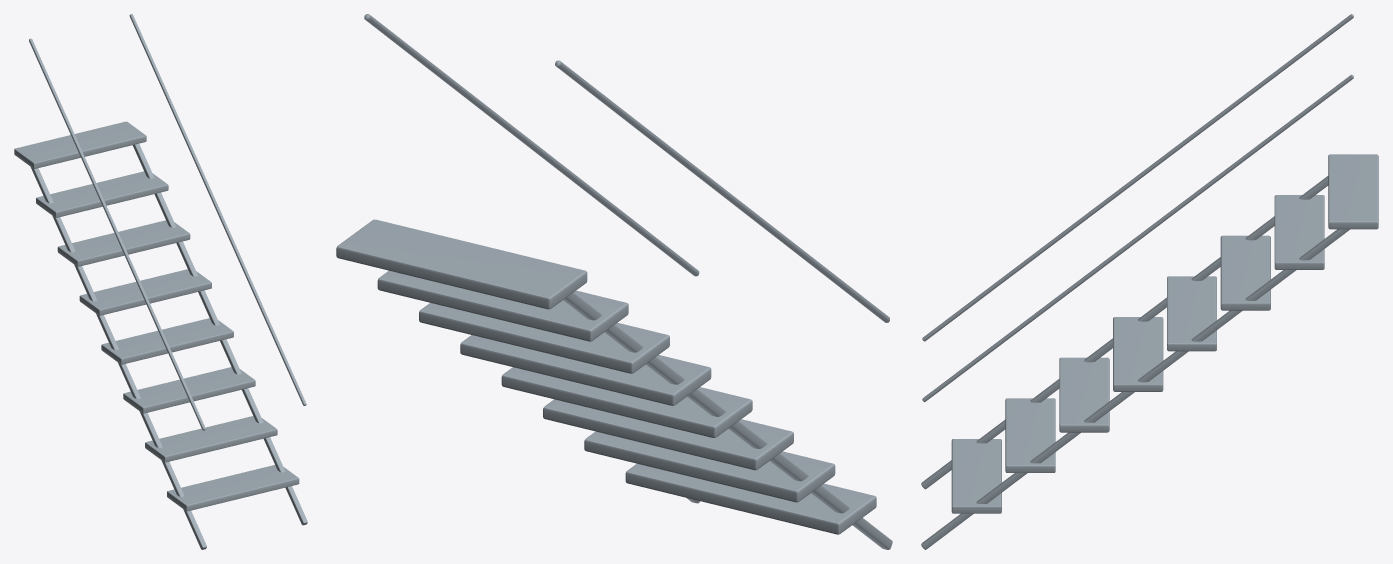
Rendered from stairs_ladder.glb.
3 renders of one model, left to right at view 1: azimuth 30°, elevation 25°; view 2: azimuth 150°, elevation 25°; view 3: azimuth 270°, elevation 25°, orthographic. The views are drawn at different scales.
Parts seen in each view (by area): view 1: stairs_ladder; view 2: stairs_ladder; view 3: stairs_ladder.
Boxes of the visible parts, x1,y1,x2,y2 form: stairs_ladder: [14, 14, 307, 549]; stairs_ladder: [336, 14, 892, 549]; stairs_ladder: [921, 14, 1378, 549].
Size of the model in its own units: 0.9 by 2.92 by 2.55.
